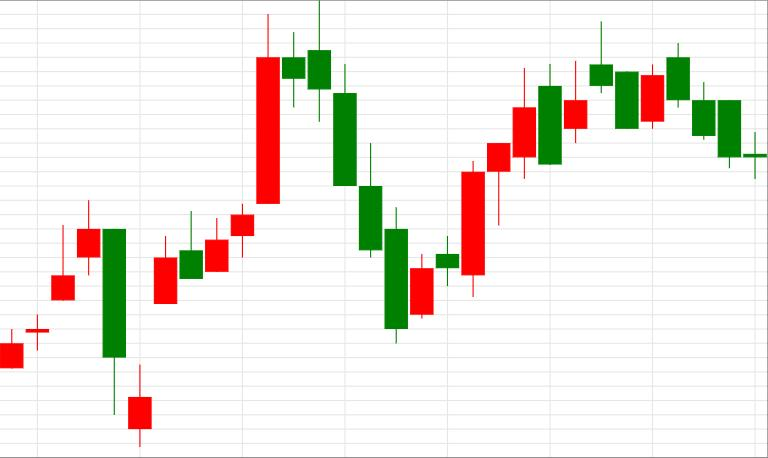hanging_man_fall: (411, 143, 510, 319)
shooting_star_fall: (411, 21, 612, 319)
